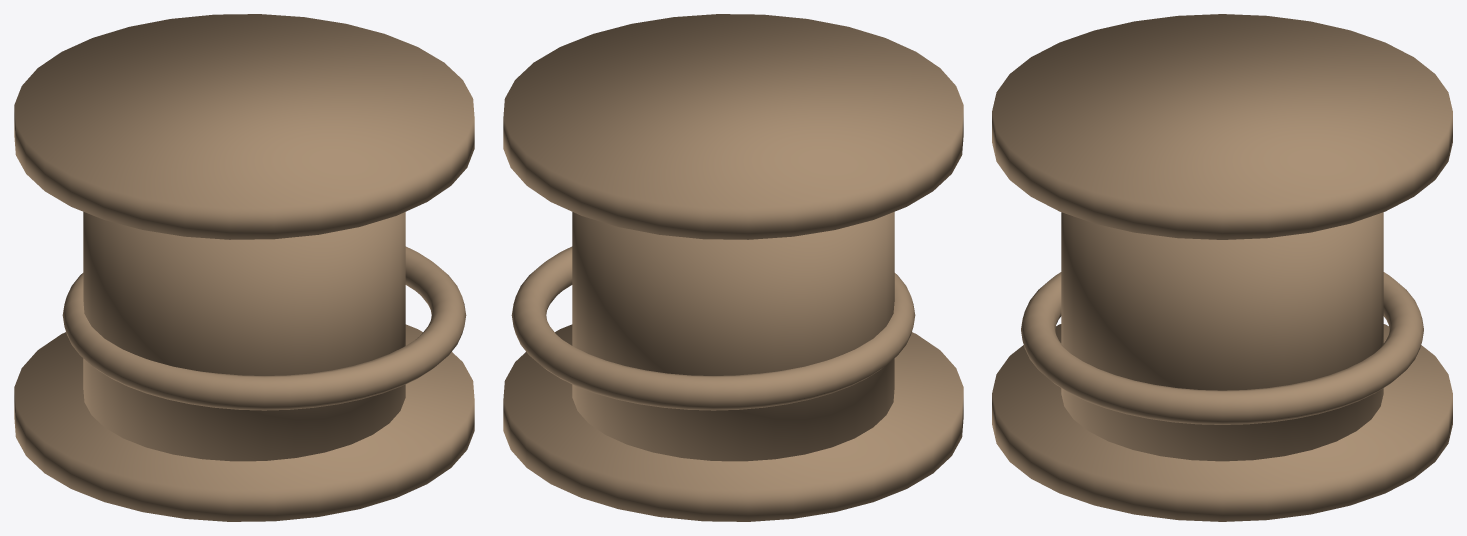
The model's file is SM_Scrap_CopperCable.fbx.
The picture shows the model from 3 angles, left to right: view 1: azimuth 30°, elevation 25°; view 2: azimuth 150°, elevation 25°; view 3: azimuth 270°, elevation 25°; orthographic projection.
Visible parts, largest first — view 1: SM_Scrap_CopperCable; view 2: SM_Scrap_CopperCable; view 3: SM_Scrap_CopperCable.
Boxes of the visible parts, bbox=[...] form: SM_Scrap_CopperCable: bbox=[14, 14, 474, 521]; SM_Scrap_CopperCable: bbox=[503, 14, 963, 521]; SM_Scrap_CopperCable: bbox=[992, 14, 1452, 521].
Size of the model in its own units: 40 by 30 by 40.
